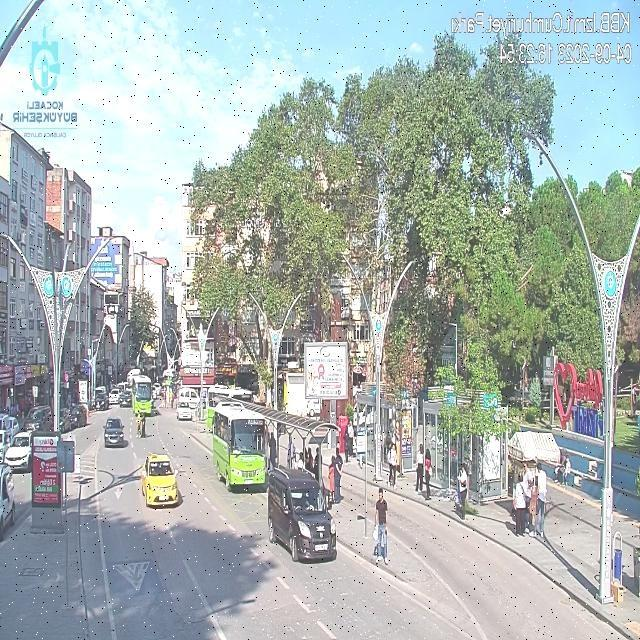Bus: (211, 401, 267, 489), (132, 376, 153, 415)
Car: (140, 452, 181, 511), (4, 432, 35, 472), (0, 464, 15, 539), (24, 406, 52, 432), (103, 418, 126, 447), (68, 405, 88, 429), (176, 400, 194, 421), (118, 391, 132, 407), (108, 389, 120, 405)
Van: (267, 468, 336, 562)
